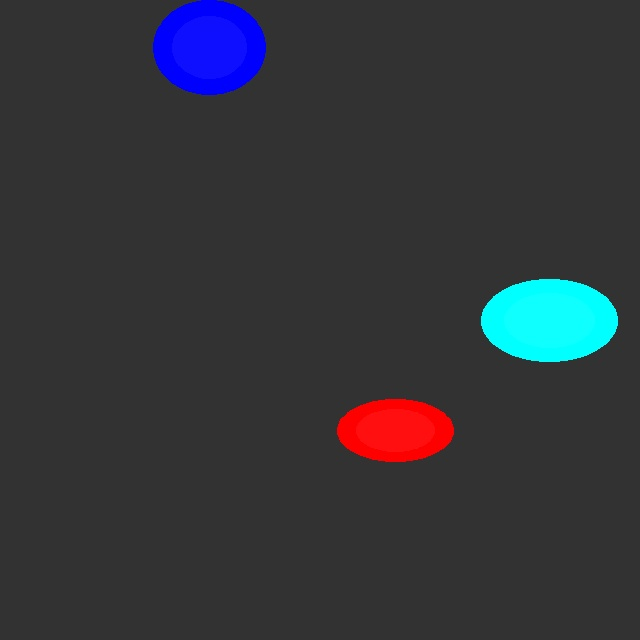fish: (481, 279, 617, 361), (152, 0, 265, 95), (337, 399, 454, 461)
